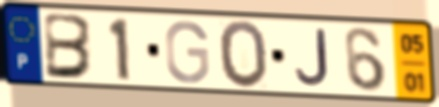1: (106, 15, 132, 82)
6: (342, 25, 390, 95)
B: (43, 10, 97, 81)
G: (163, 18, 212, 86)
J: (293, 27, 332, 89)
O: (216, 18, 271, 91)
